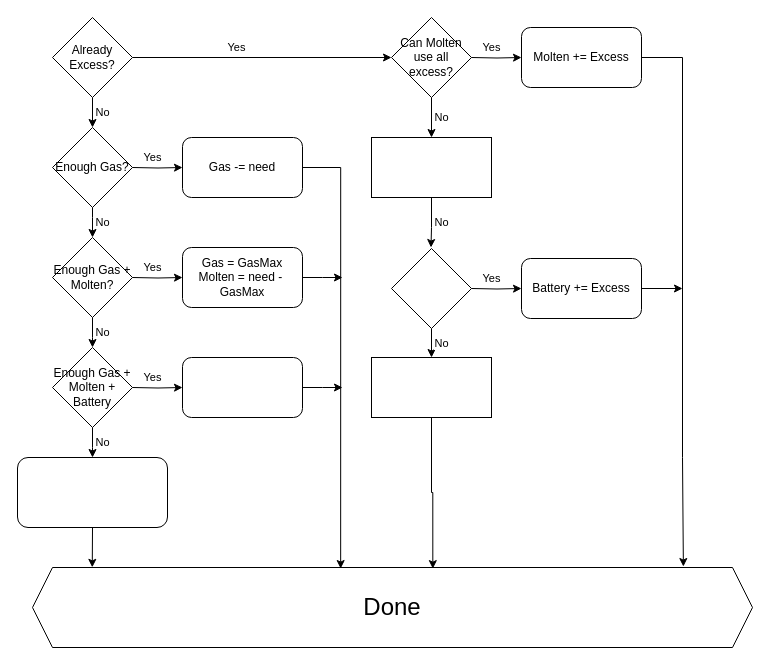
This 770x665 diagram has some shape labels left out. The centre of each missing label's shape, as x and y in pixels:
"Battery = MaxBattery Excess -= BatteryCharged" belongs at pixel 431 387.
"Can battery use rest of excess?" belongs at pixel 431 288.
"Gas = GasMax Molten = MoltenMax Battery = BatteryMax Shortage = need - the rest" belongs at pixel 92 492.
"Gas = GasMax Molten = MoltenMax Battery = need - GasMax - MoltenMax" belongs at pixel 242 387.
"Molten = MaxMolten excess -= MoltenCharged" belongs at pixel 431 167.
